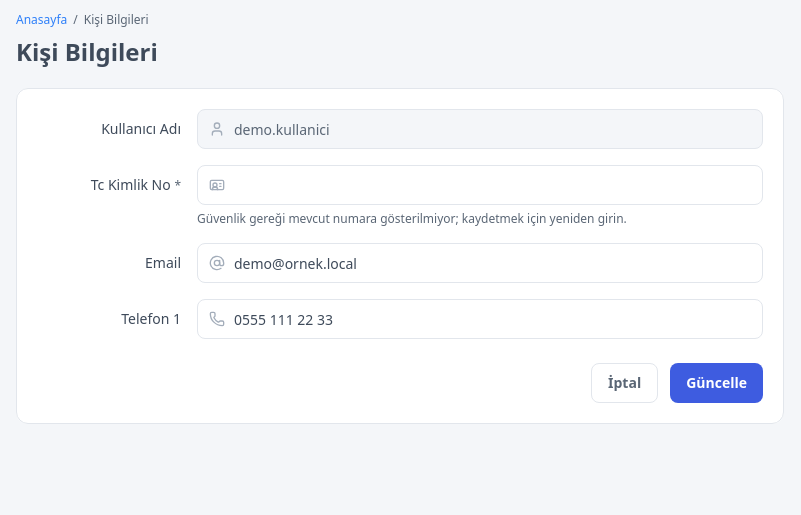
Test: güncelleme › kayıt hatasında girilen veri korunur
The width and height of the screenshot is (801, 515).
Replace the text in the field labelled "Email" with "yeni.adres@firma.com": (480, 263) [197, 243, 763, 283]
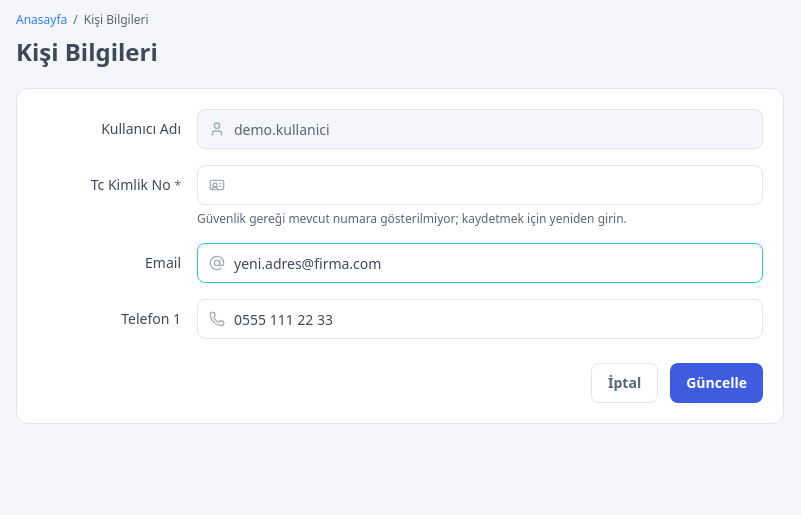
In the field labelled "Tc Kimlik No *": (480, 185) [197, 165, 763, 205], type "12345678950"
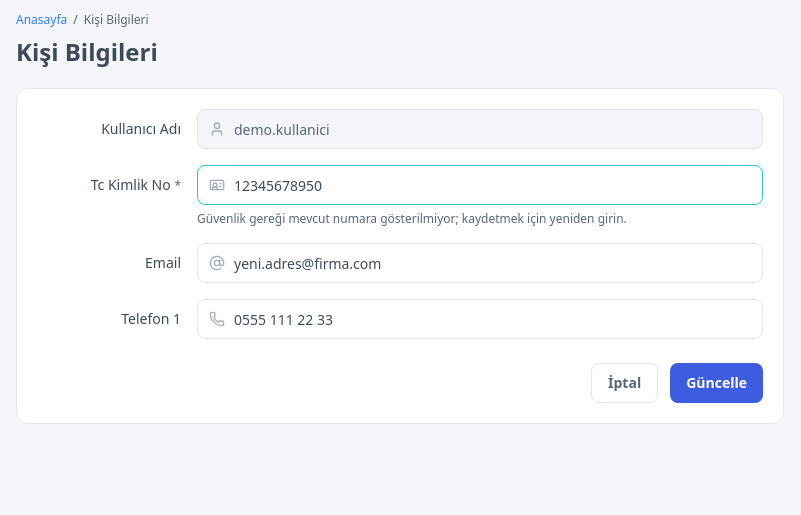
Click the button "Güncelle": (717, 383) [670, 363, 763, 403]
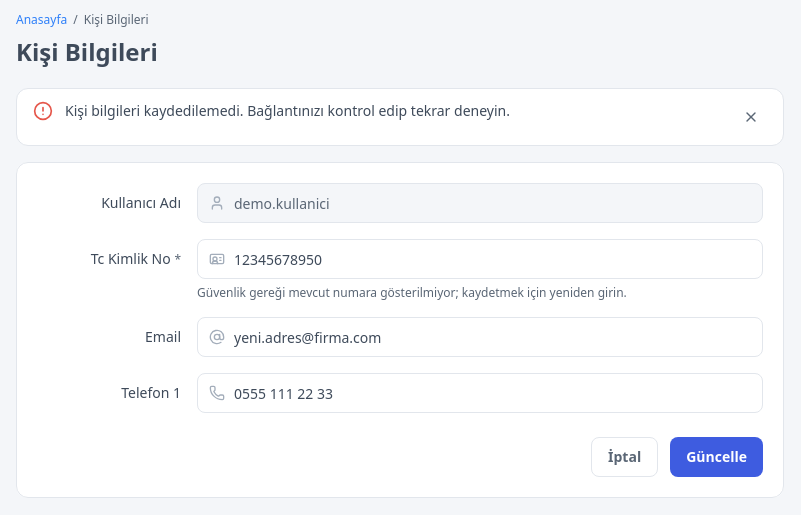
expect the message shows "kaydedilemedi": met, box [65, 101, 510, 120]
